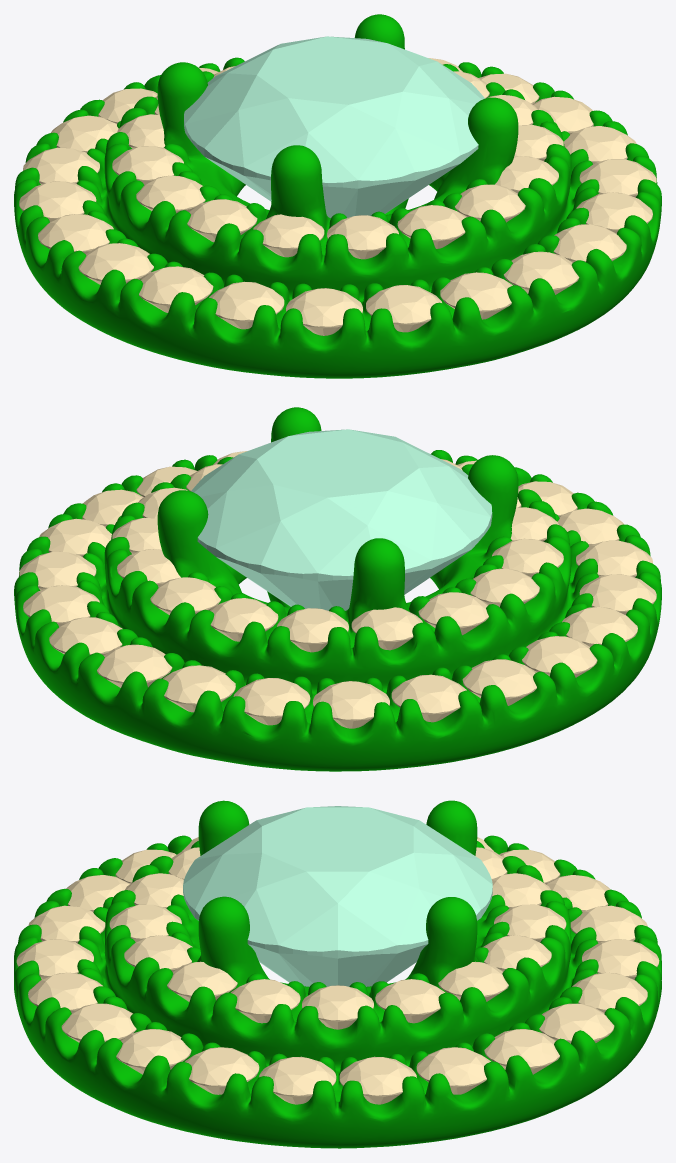
3 renders of one model, top to bottom at view 1: azimuth 30°, elevation 25°; view 2: azimuth 150°, elevation 25°; view 3: azimuth 270°, elevation 25°, orthographic.
Visible parts, largest first — view 1: Metal01, CS_Diamond, Diamond_Round.013, Diamond_Round.014, Diamond_Round.012, Diamond_Round.011, Diamond_Round.015, Diamond_Round.016, Diamond_Round.010, Diamond_Round.009, Diamond_Round.008, Diamond_Round.017 (+19 smaller); view 2: Metal01, CS_Diamond, Diamond_Round.006, Diamond_Round.007, Diamond_Round.005, Diamond_Round.008, Diamond_Round.004, Diamond_Round.003, Diamond_Round.009, Diamond_Round.010, Diamond_Round.002, Diamond_Round.011 (+19 smaller); view 3: Metal01, CS_Diamond, Diamond_Round.021, Diamond_Round.020, Diamond_Round.019, Diamond_Round, Diamond_Round.001, Diamond_Round.018, Diamond_Round.002, Diamond_Round.017, Diamond_Round.036, Diamond_Round.035 (+21 smaller).
Boxes of the visible parts, bbox=[...] form: Metal01: bbox=[14, 14, 661, 378]; CS_Diamond: bbox=[184, 36, 484, 217]; Diamond_Round.013: bbox=[286, 288, 362, 335]; Diamond_Round.014: bbox=[366, 285, 441, 332]; Diamond_Round.012: bbox=[209, 281, 284, 329]; Diamond_Round.011: bbox=[139, 266, 213, 312]; Diamond_Round.015: bbox=[440, 272, 512, 319]; Diamond_Round.016: bbox=[503, 251, 579, 294]; Diamond_Round.010: bbox=[78, 243, 153, 284]; Diamond_Round.009: bbox=[38, 214, 113, 254]; Diamond_Round.008: bbox=[19, 181, 96, 222]; Diamond_Round.017: bbox=[553, 224, 626, 262]; Metal01: bbox=[14, 407, 661, 771]; CS_Diamond: bbox=[191, 429, 492, 610]; Diamond_Round.006: bbox=[313, 681, 389, 728]; Diamond_Round.007: bbox=[391, 674, 466, 722]; Diamond_Round.005: bbox=[233, 678, 310, 725]; Diamond_Round.008: bbox=[462, 659, 536, 705]; Diamond_Round.004: bbox=[163, 665, 235, 712]; Diamond_Round.003: bbox=[97, 644, 172, 687]; Diamond_Round.009: bbox=[522, 636, 597, 677]; Diamond_Round.010: bbox=[562, 606, 637, 646]; Diamond_Round.002: bbox=[49, 617, 122, 655]; Diamond_Round.011: bbox=[579, 574, 656, 614]; Metal01: bbox=[14, 800, 661, 1148]; CS_Diamond: bbox=[183, 806, 492, 986]; Diamond_Round.021: bbox=[339, 1056, 416, 1104]; Diamond_Round.020: bbox=[259, 1056, 336, 1104]; Diamond_Round.019: bbox=[185, 1047, 259, 1094]; Diamond_Round: bbox=[416, 1047, 490, 1094]; Diamond_Round.001: bbox=[484, 1029, 559, 1074]; Diamond_Round.018: bbox=[116, 1029, 191, 1074]; Diamond_Round.002: bbox=[539, 1003, 614, 1043]; Diamond_Round.017: bbox=[61, 1003, 136, 1042]; Diamond_Round.036: bbox=[302, 985, 373, 1029]; Diamond_Round.035: bbox=[375, 979, 445, 1023].
Size of the model in its own units: 12.59 by 6.34 by 12.56.
